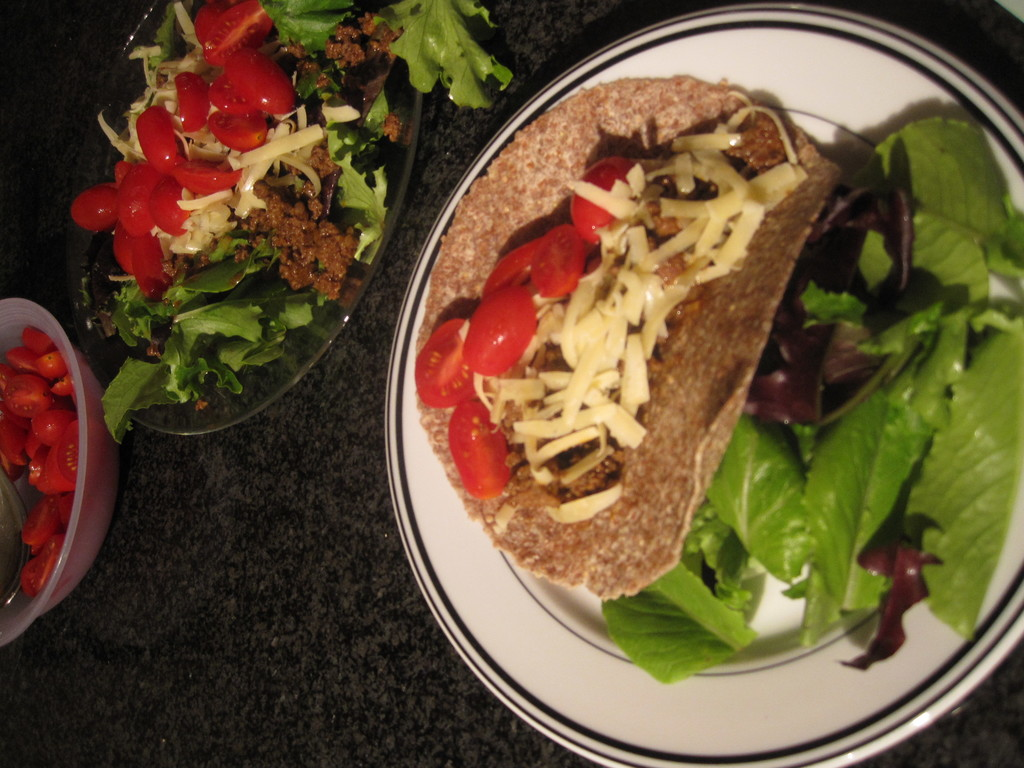taco: (403, 80, 803, 595)
